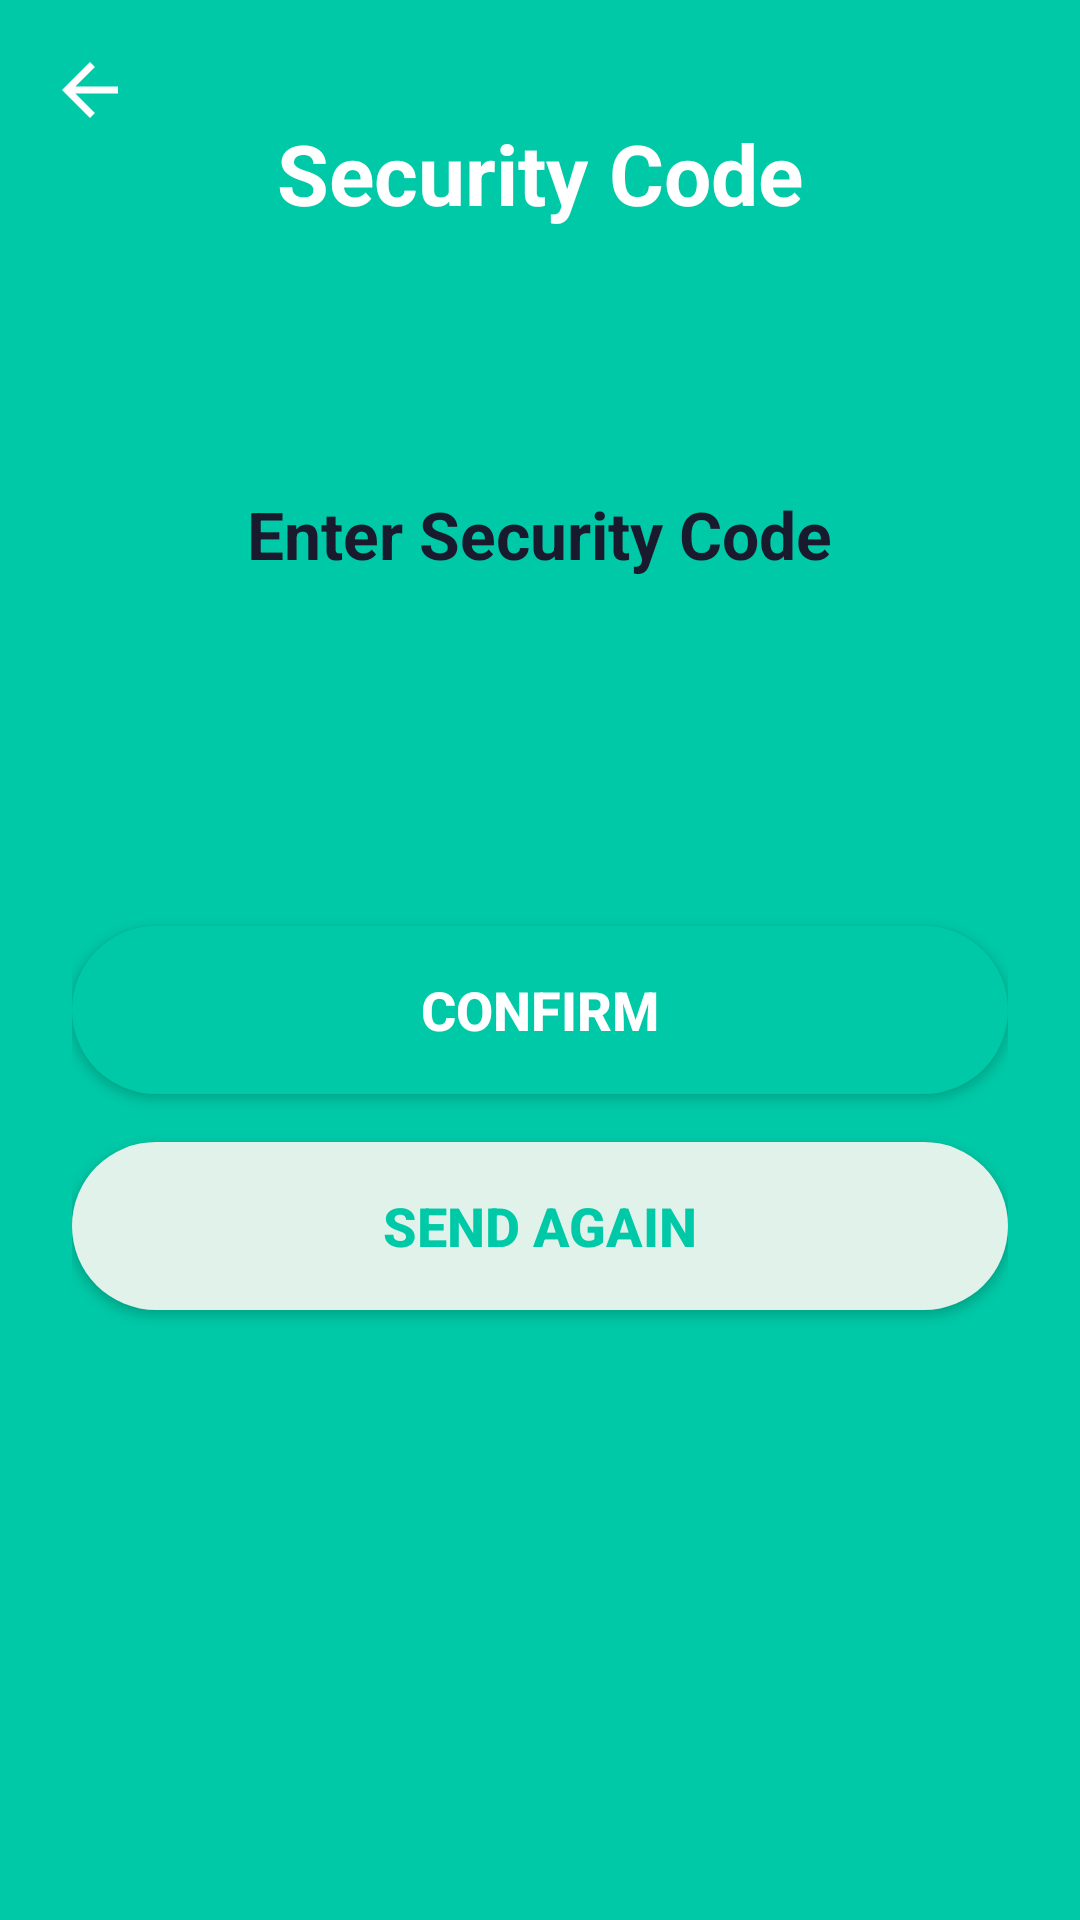

Icon click points for this 1080px×1920px phone screenshot, format (x,y):
Back: (90,90)
